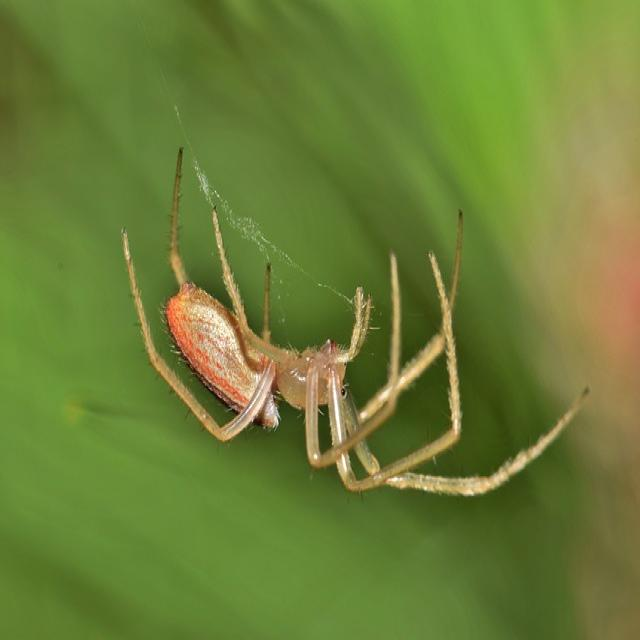spyder: (122, 148, 588, 495)
